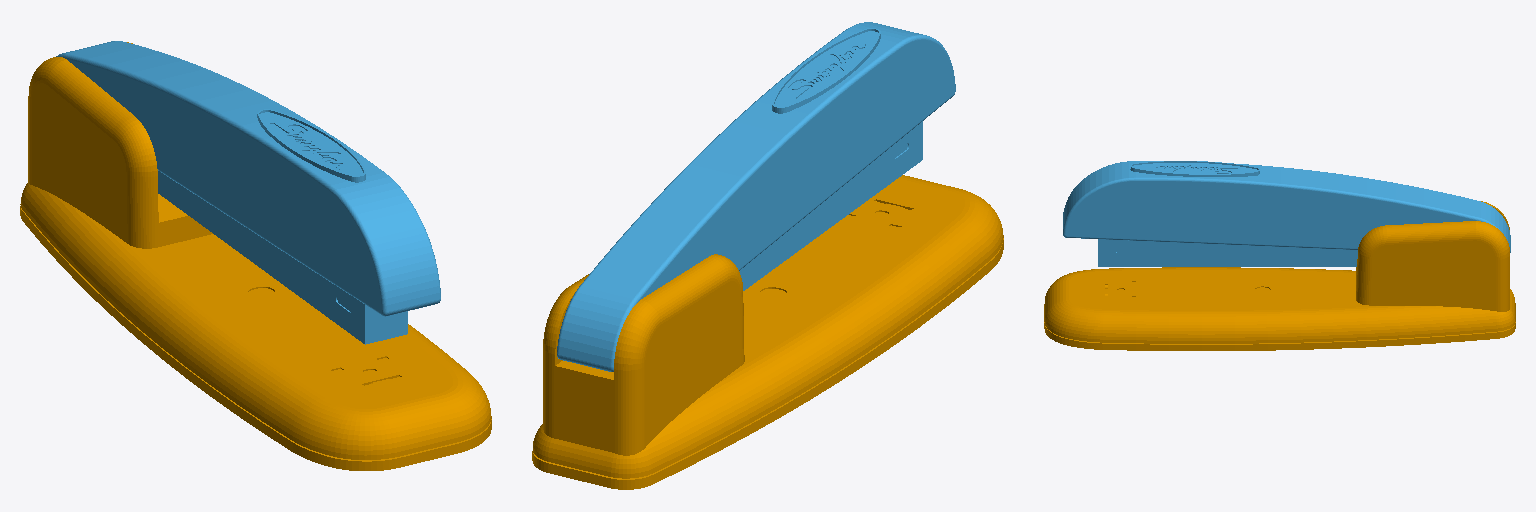
robot.urdf — stapler_103111:
<?xml version="1.0"?>
<robot name="stapler_103111">
  <link name="base_link">
    <inertial>
      <origin xyz="0 0 0" rpy="0 0 0"/>
      <mass value="1"/>
      <inertia ixx="0.001" ixy="0" ixz="0" iyy="0.001" iyz="0" izz="0.001"/>
    </inertial>
    <visual>
      <origin xyz="0 0 0" rpy="0 0 0"/>
      <geometry>
        <mesh filename="meshes/base_link.obj" scale="1 1 1"/>
      </geometry>
    </visual>
    <collision>
      <origin xyz="0 0 0" rpy="0 0 0"/>
      <geometry>
        <mesh filename="meshes/base_link.obj" scale="1 1 1"/>
      </geometry>
    </collision>
  </link>
  <link name="moving_link">
    <inertial>
      <origin xyz="0 0 0" rpy="0 0 0"/>
      <mass value="1"/>
      <inertia ixx="0.001" ixy="0" ixz="0" iyy="0.001" iyz="0" izz="0.001"/>
    </inertial>
    <visual>
      <origin xyz="0 -0.7520664452 -0.1050087062" rpy="0 0 0"/>
      <geometry>
        <mesh filename="meshes/moving_link.obj" scale="1 1 1"/>
      </geometry>
    </visual>
    <collision>
      <origin xyz="0 -0.7520664452 -0.1050087062" rpy="0 0 0"/>
      <geometry>
        <mesh filename="meshes/moving_link.obj" scale="1 1 1"/>
      </geometry>
    </collision>
  </link>
  <joint name="stapler_103111_joint" type="revolute">
    <parent link="base_link"/>
    <child link="moving_link"/>
    <origin xyz="0 0.7520664452 0.1050087062" rpy="0 0 0"/>
    <axis xyz="1 0 0"/>
    <limit lower="-0.6981317008" upper="0" effort="100" velocity="10"/>
  </joint>
</robot>

--- What the picture shows (computed from the rendered views, not written in the file) ---
The picture shows the robot from 3 angles, left to right: view 1: azimuth 30°, elevation 25°; view 2: azimuth 150°, elevation 25°; view 3: azimuth 270°, elevation 25°; orthographic projection.
Robot: stapler_103111 — 2 links, 1 joints (1 revolute); root link base_link; default pose: all joints at 0.
Links seen in each view (by area): view 1: base_link, moving_link; view 2: base_link, moving_link; view 3: base_link, moving_link.
Link boxes in pixels (left/top/right/bottom): base_link: left=20, top=42, right=491, bottom=470; moving_link: left=56, top=41, right=440, bottom=344; base_link: left=532, top=175, right=1003, bottom=489; moving_link: left=557, top=22, right=955, bottom=371; base_link: left=1044, top=201, right=1515, bottom=350; moving_link: left=1063, top=161, right=1510, bottom=266.
Size in the robot's own frame: 0.5888 by 1.88 by 0.6773 metres.
2 mesh visuals loaded from 2 distinct referenced files (2 OBJ).
